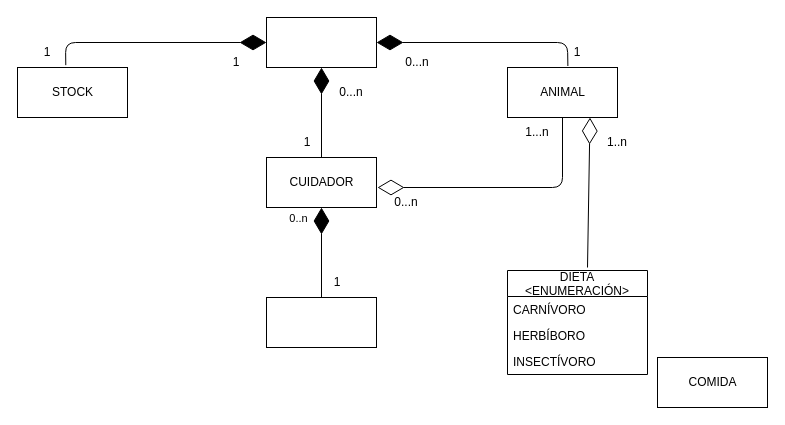
Image size: 785x425. Some labels were removed from this diagram. The centre of each missing label's shape, as x and y in pixels:
VACACIONES: the point at 321,322
ZOO: the point at 321,42
